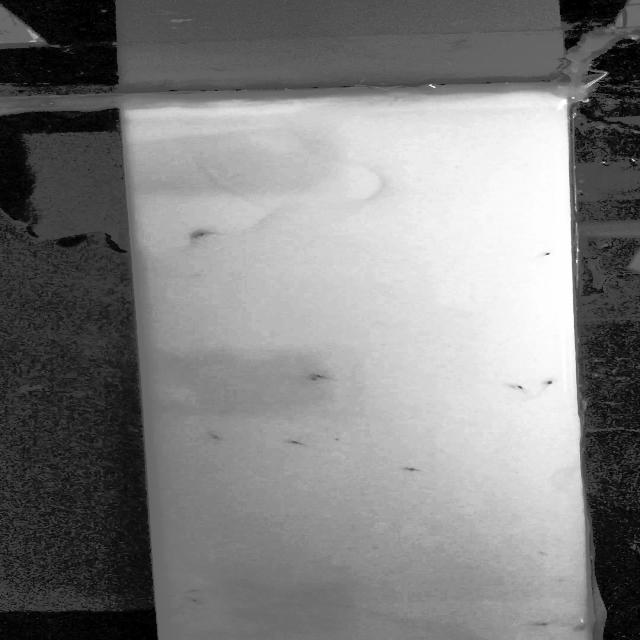shrimp: (276, 433, 328, 453), (400, 464, 448, 479), (185, 229, 218, 244), (539, 375, 567, 392), (526, 250, 557, 262), (507, 382, 533, 394), (529, 617, 553, 629), (204, 431, 223, 441), (184, 596, 204, 605), (182, 588, 201, 594), (312, 374, 329, 378), (308, 376, 319, 381)
